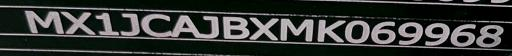letter: (24, 8, 62, 37), (60, 8, 94, 39), (278, 14, 314, 42), (248, 14, 280, 42), (314, 15, 344, 44), (139, 11, 171, 37), (220, 14, 248, 41), (422, 19, 450, 46), (449, 21, 479, 46), (369, 19, 397, 45), (396, 19, 424, 45), (94, 10, 118, 39), (344, 19, 370, 45), (478, 22, 504, 48), (170, 14, 198, 38), (196, 14, 220, 39), (118, 11, 140, 38)
